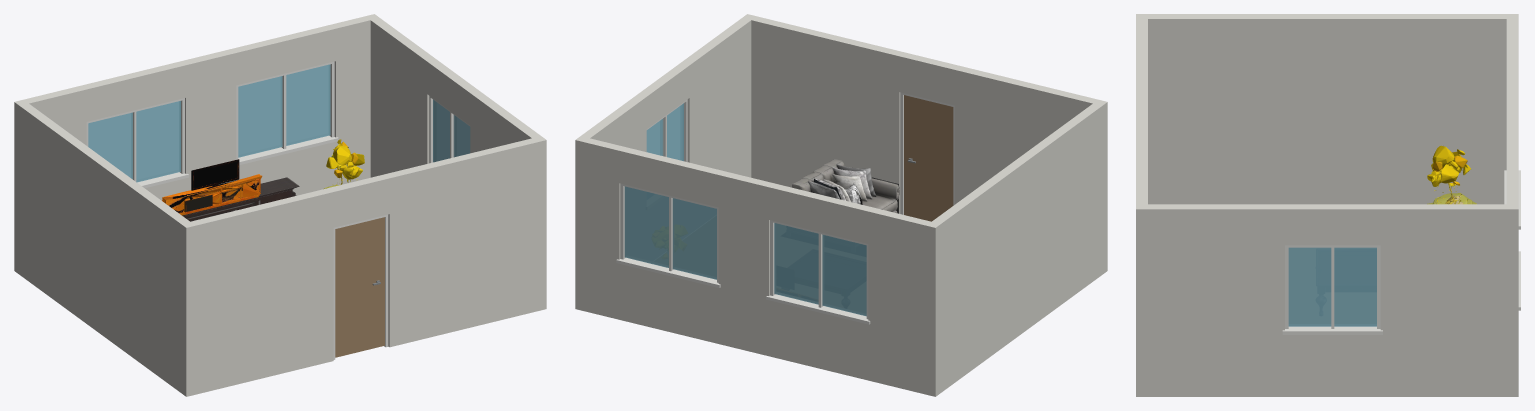
The model's file is layoutvlm.glb.
3 renders of one model, left to right at view 1: azimuth 30°, elevation 25°; view 2: azimuth 150°, elevation 25°; view 3: azimuth 270°, elevation 25°, orthographic. The views are drawn at different scales.
Parts seen in each view (by area): view 1: wall|scenesmith_007__R00|0, wall|scenesmith_007__R00|2, wall|scenesmith_007__R00|1, wall|scenesmith_007__R00|3, wall|scenesmith_007__R00|1 Window 0 | glazing, wall|scenesmith_007__R00|0 Door 0 | wood leaf, wall|scenesmith_007__R00|1 Window 0 | jamb, scenesmith_007__R00_tv-0, wall|scenesmith_007__R00|3 Window 0 | glazing, raw_model, wall|scenesmith_007__R00|0 Door 0 | jamb, scenesmith_007__R00_plant-0 (+1 smaller); view 2: wall|scenesmith_007__R00|1, wall|scenesmith_007__R00|0, wall|scenesmith_007__R00|2, wall|scenesmith_007__R00|3, wall|scenesmith_007__R00|1 Window 0 | glazing, wall|scenesmith_007__R00|0 Door 0 | wood leaf, wall|scenesmith_007__R00|1 Window 0 | jamb, raw_model.001, wall|scenesmith_007__R00|3 Window 0 | glazing, wall|scenesmith_007__R00|0 Door 0 | jamb, wall|scenesmith_007__R00|3 Window 0 | jamb; view 3: wall|scenesmith_007__R00|2, wall|scenesmith_007__R00|3, wall|scenesmith_007__R00|3 Window 0 | glazing, wall|scenesmith_007__R00|1, wall|scenesmith_007__R00|0, wall|scenesmith_007__R00|3 Window 0 | jamb, scenesmith_007__R00_plant-0, wall|scenesmith_007__R00|1 Window 0 | jamb.
Part boxes in pixels (box(x1,y1,x2,y2)): wall|scenesmith_007__R00|0: box(181, 136, 545, 394); wall|scenesmith_007__R00|2: box(15, 99, 195, 396); wall|scenesmith_007__R00|1: box(14, 16, 370, 274); wall|scenesmith_007__R00|3: box(365, 14, 546, 311); wall|scenesmith_007__R00|1 Window 0 | glazing: box(88, 64, 330, 182); wall|scenesmith_007__R00|0 Door 0 | wood leaf: box(335, 217, 384, 357); wall|scenesmith_007__R00|1 Window 0 | jamb: box(86, 61, 338, 188); scenesmith_007__R00_tv-0: box(162, 159, 262, 215); wall|scenesmith_007__R00|3 Window 0 | glazing: box(433, 99, 470, 162); raw_model: box(182, 177, 299, 221); wall|scenesmith_007__R00|0 Door 0 | jamb: box(333, 214, 388, 359); scenesmith_007__R00_plant-0: box(323, 139, 364, 189); wall|scenesmith_007__R00|1: box(584, 138, 940, 396); wall|scenesmith_007__R00|0: box(742, 14, 1106, 213); wall|scenesmith_007__R00|2: box(926, 102, 1107, 396); wall|scenesmith_007__R00|3: box(575, 18, 751, 311); wall|scenesmith_007__R00|1 Window 0 | glazing: box(624, 186, 866, 316); wall|scenesmith_007__R00|0 Door 0 | wood leaf: box(904, 95, 953, 221); wall|scenesmith_007__R00|1 Window 0 | jamb: box(616, 183, 870, 324); raw_model.001: box(792, 159, 899, 213); wall|scenesmith_007__R00|3 Window 0 | glazing: box(646, 103, 683, 161); wall|scenesmith_007__R00|0 Door 0 | jamb: box(900, 92, 954, 214); wall|scenesmith_007__R00|3 Window 0 | jamb: box(646, 99, 687, 161); wall|scenesmith_007__R00|2: box(1148, 14, 1518, 204); wall|scenesmith_007__R00|3: box(1148, 204, 1518, 396); wall|scenesmith_007__R00|3 Window 0 | glazing: box(1288, 247, 1376, 326); wall|scenesmith_007__R00|1: box(1506, 19, 1518, 396); wall|scenesmith_007__R00|0: box(1136, 14, 1147, 396); wall|scenesmith_007__R00|3 Window 0 | jamb: box(1282, 245, 1382, 334); scenesmith_007__R00_plant-0: box(1427, 145, 1476, 204); wall|scenesmith_007__R00|1 Window 0 | jamb: box(1504, 170, 1520, 310).
Bounding box in the file's own units: 5.83 × 2.61 × 4.83.
Materials: 11 (5 with a texture image).
